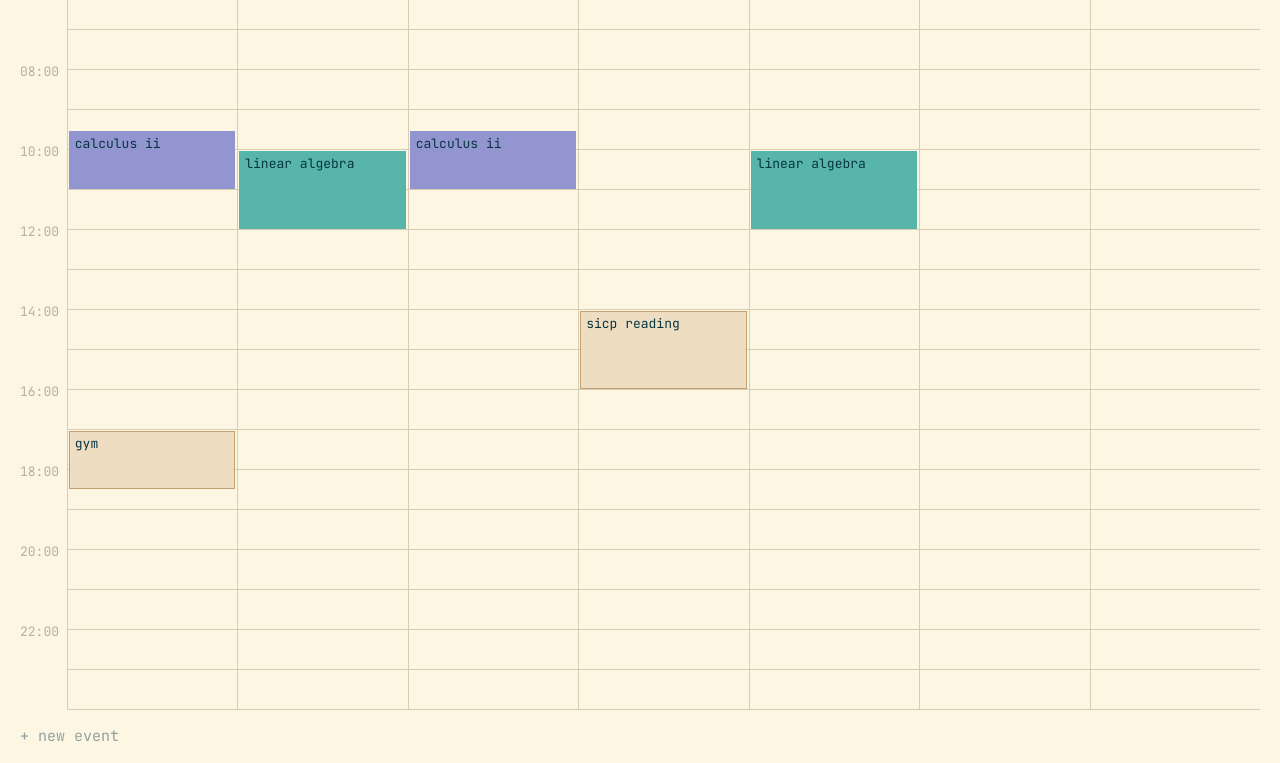
Test: SchedulePage › adds an event through the form
(page scrolled)
Click the button "+ new event": {"x": 70, "y": 736} x1=20 y1=710 x2=1260 y2=748
(page scrolled)
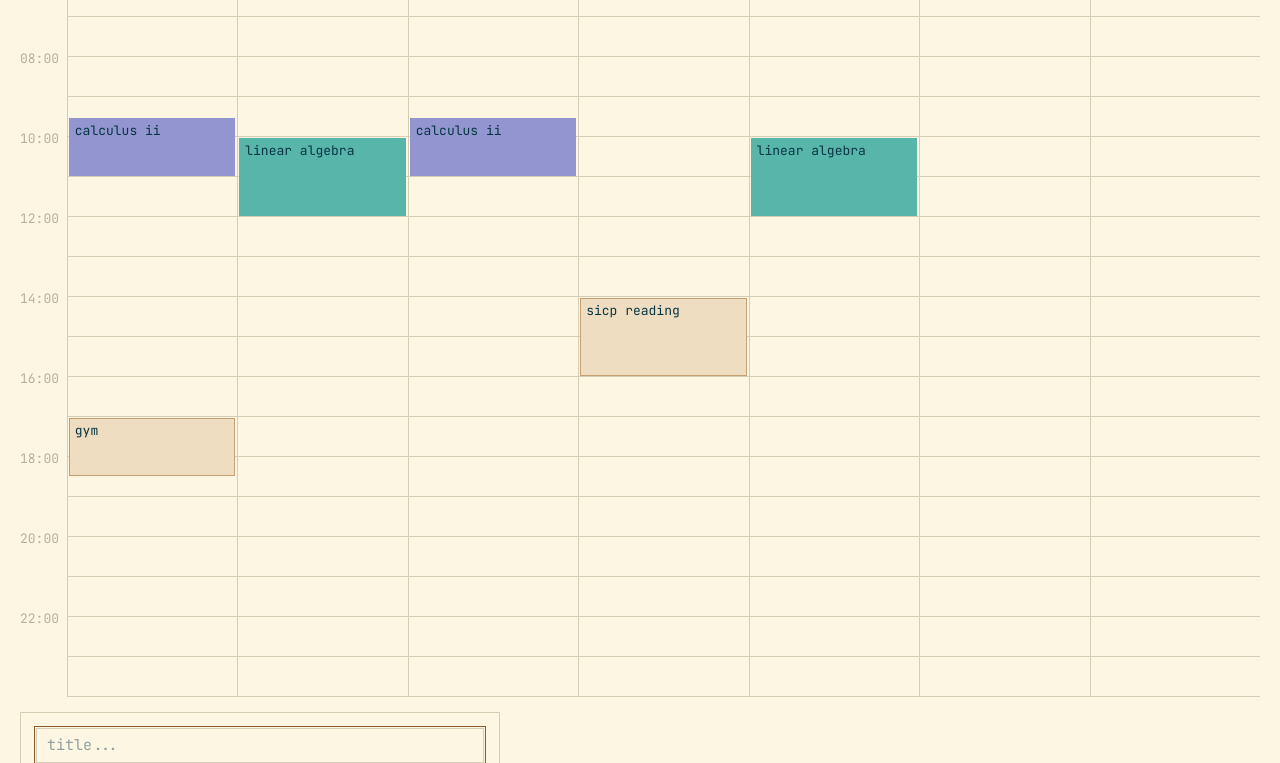
In the field named "event title": {"x": 260, "y": 746} x1=36 y1=728 x2=484 y2=762, type "morning run"
(page scrolled)
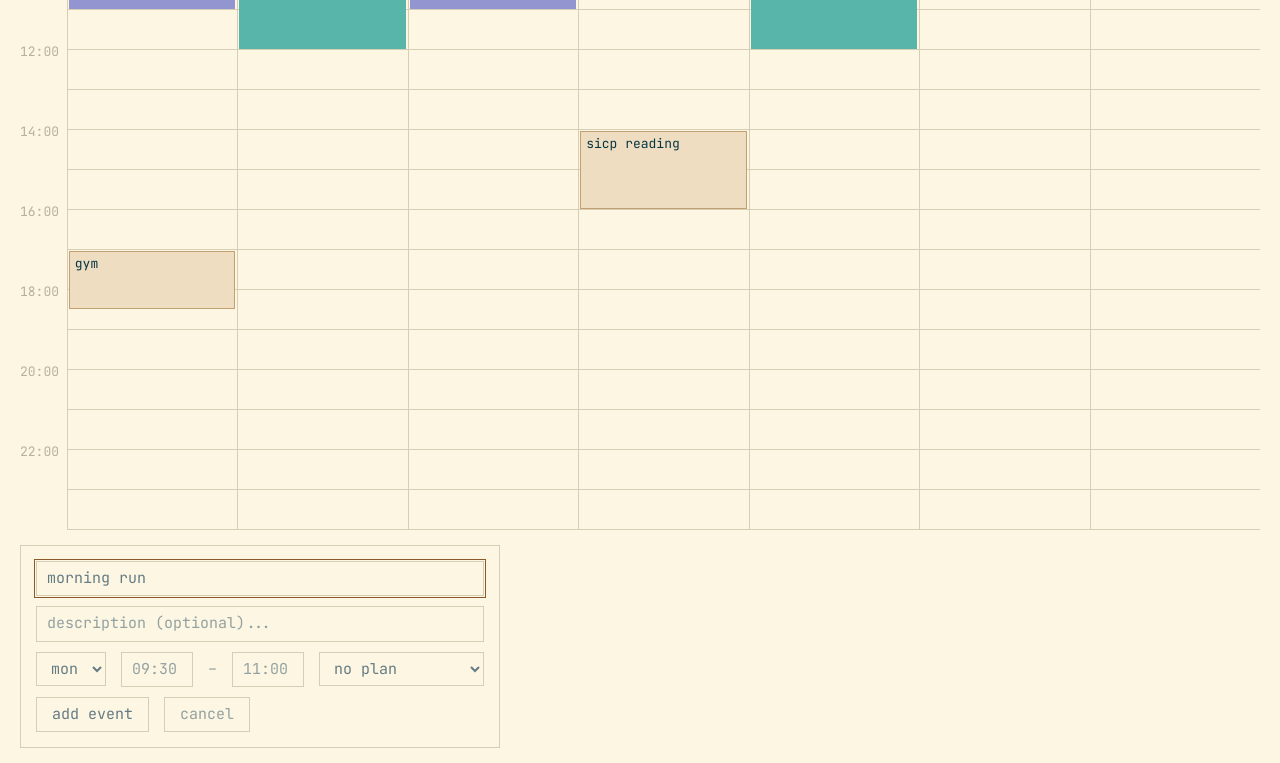
In the field named "event description": {"x": 260, "y": 624} x1=36 y1=606 x2=484 y2=642, type "5k easy"
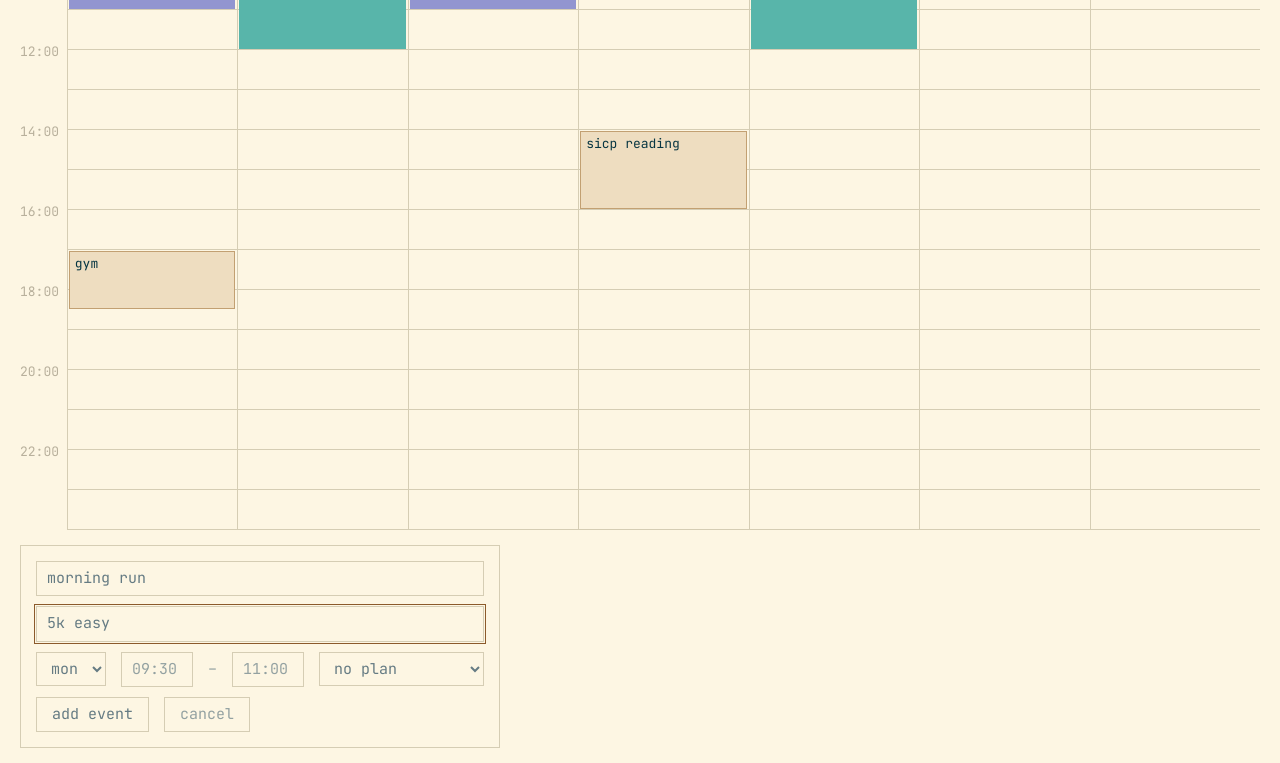
Select "sat" in the dropdown named "event day": {"x": 71, "y": 669} x1=36 y1=652 x2=106 y2=686
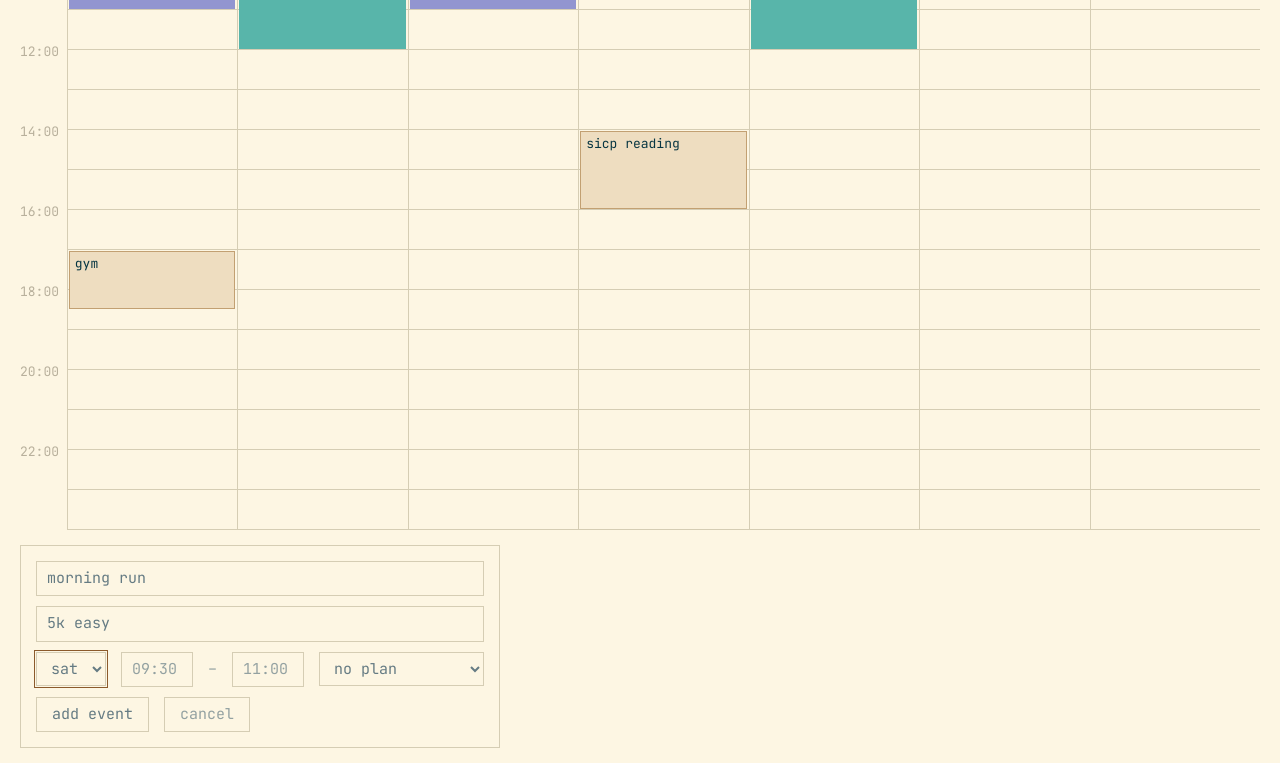
In the field named "start time": {"x": 157, "y": 669} x1=121 y1=652 x2=193 y2=687, type "08:00"
In the field named "end time": {"x": 268, "y": 669} x1=232 y1=652 x2=304 y2=687, type "09:15"
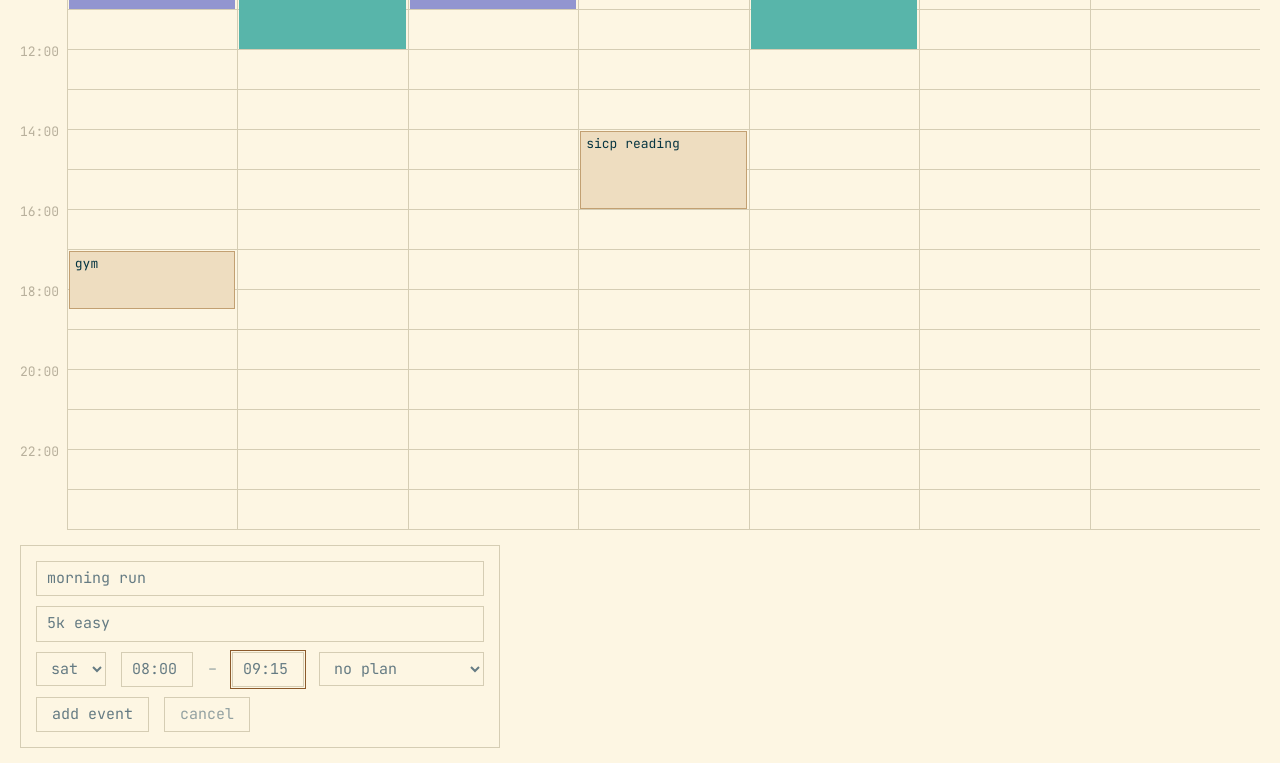
Click the button "add event": {"x": 92, "y": 715} x1=36 y1=697 x2=149 y2=732
(page scrolled)
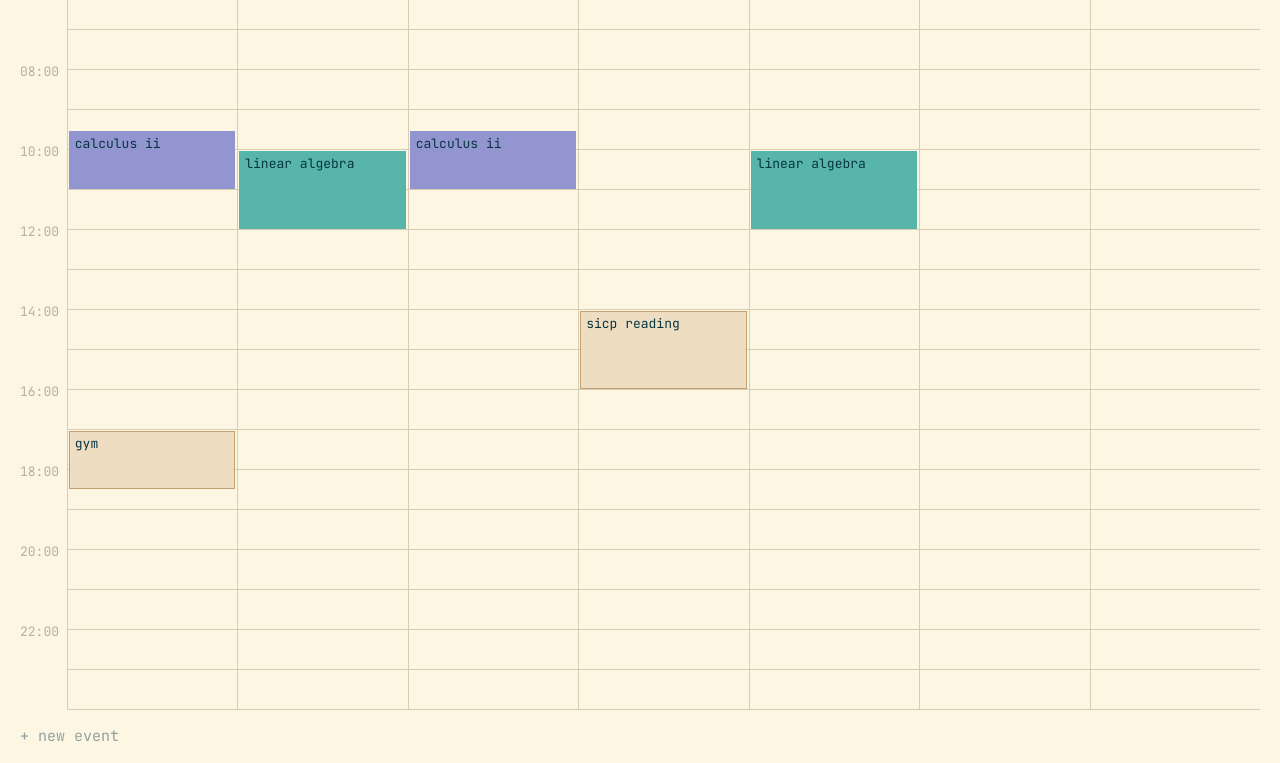
Expected: the button "+ new event" is shown, x1=20 y1=710 x2=1260 y2=748
